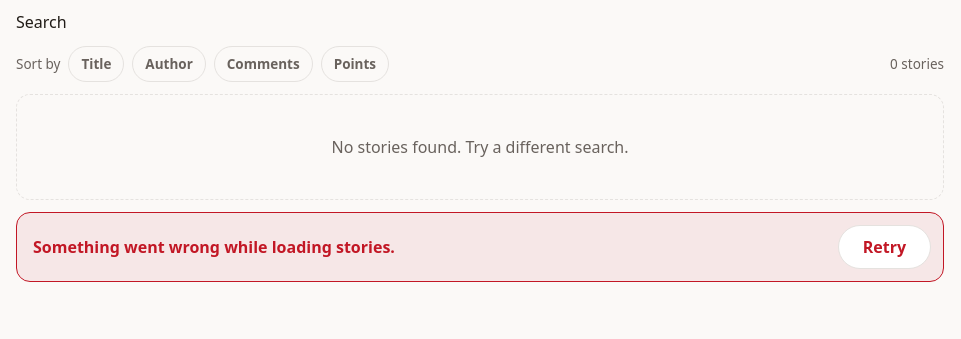
App › shows an error and retries
This screenshot has width=961, height=339.
expect the message shows "Something went wrong": met, box left=33, top=236, right=395, bottom=258
Step 1. Click the button "Retry" → (884, 247), box left=838, top=225, right=931, bottom=269
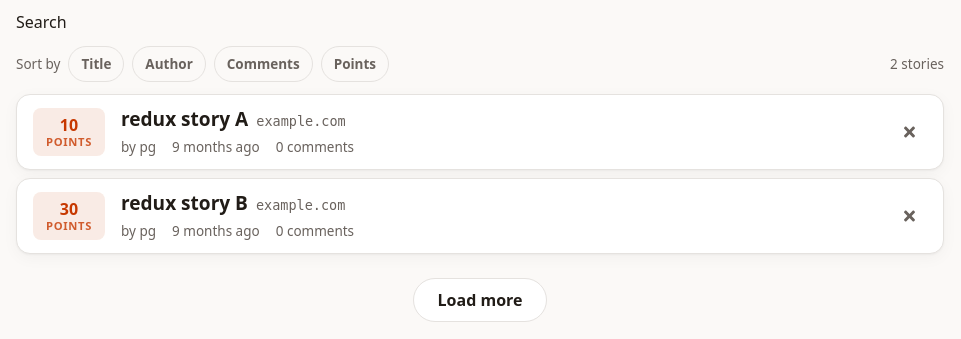
expect the link "redux story A" is shown: met, box left=121, top=106, right=248, bottom=132
expect the message "Something went wrong while loading stories. Retry" is gone: met
